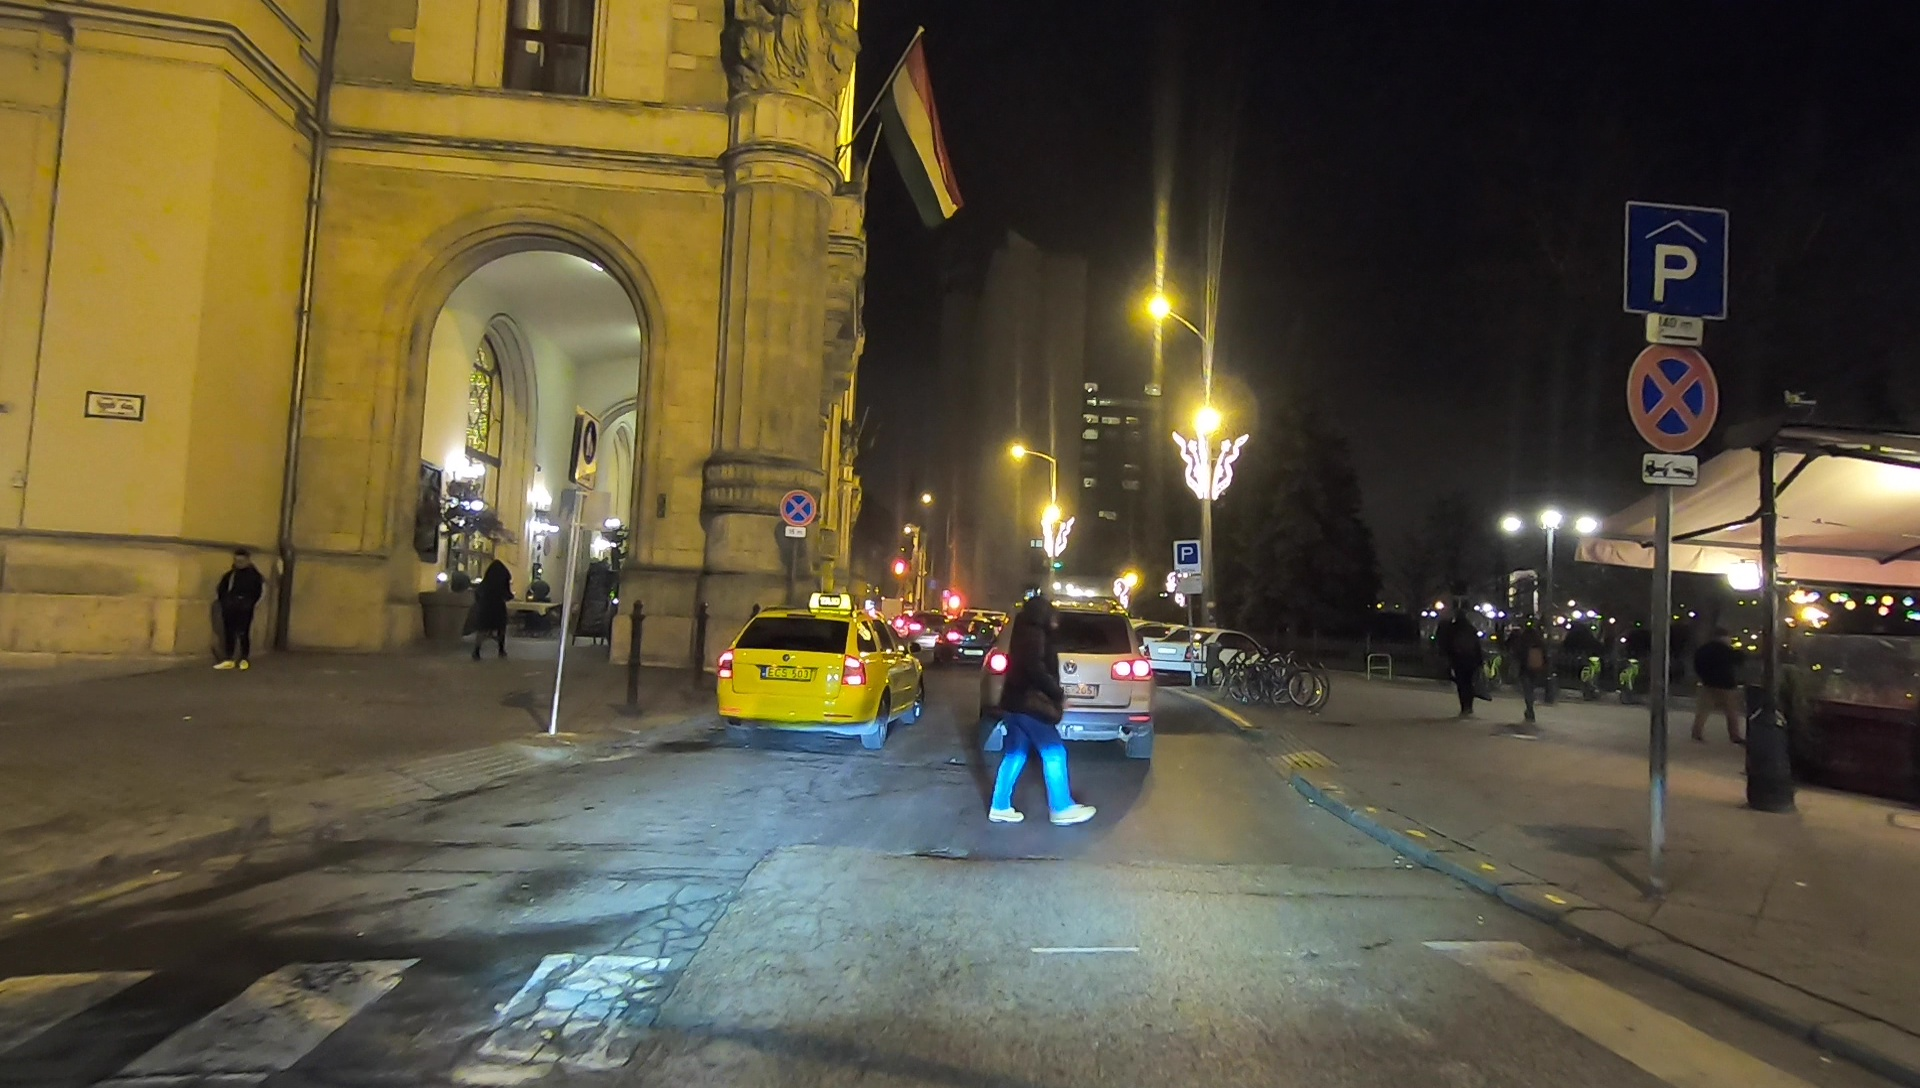person: (989, 600, 1102, 836), (1689, 623, 1749, 749), (214, 549, 260, 669), (1504, 621, 1549, 743), (469, 558, 515, 665), (1449, 611, 1484, 721)
